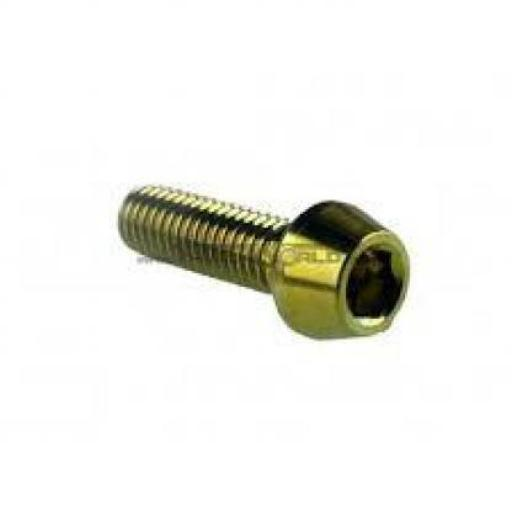Bolt: (116, 184, 411, 341)
